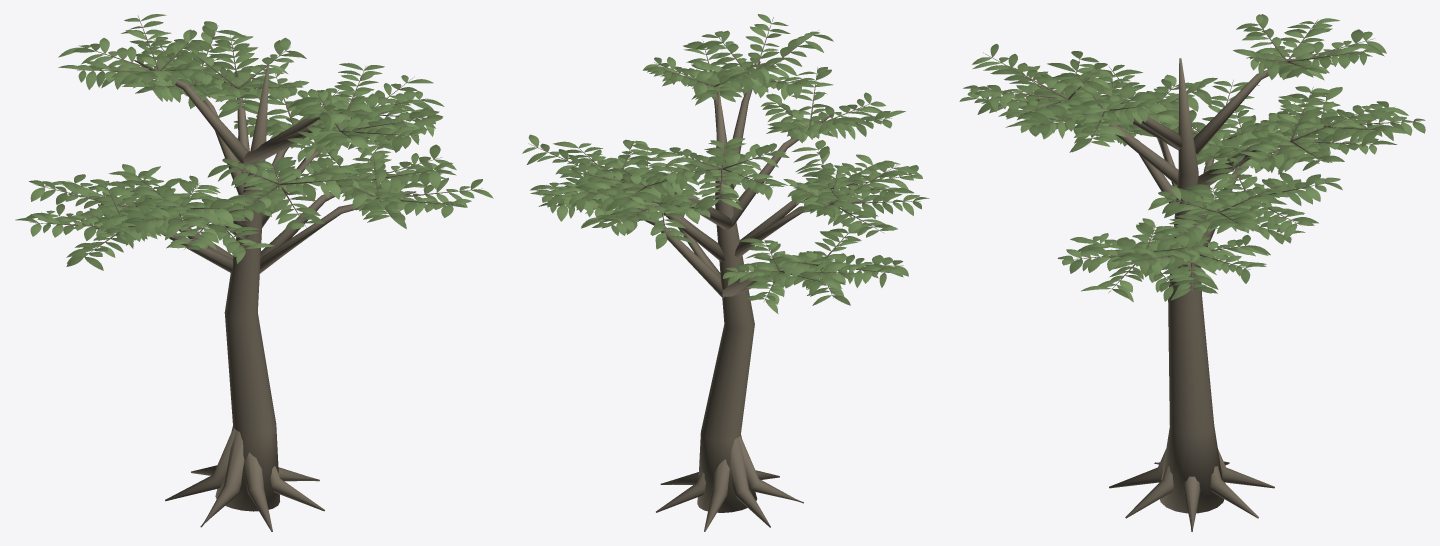
File: rainforest_canopy.glb
The picture shows the model from 3 angles, left to right: view 1: azimuth 30°, elevation 25°; view 2: azimuth 150°, elevation 25°; view 3: azimuth 270°, elevation 25°; orthographic projection. The views are drawn at different scales.
Visible parts, largest first — view 1: Foliage, Trunk; view 2: Foliage, Trunk; view 3: Foliage, Trunk.
Part boxes in pixels (x1=…): Foliage: x1=15, y1=14, x2=493, y2=270; Trunk: x1=30, y1=16, x2=482, y2=531; Foliage: x1=522, y1=14, x2=929, y2=313; Trunk: x1=528, y1=17, x2=920, y2=531; Foliage: x1=959, y1=14, x2=1425, y2=302; Trunk: x1=968, y1=20, x2=1424, y2=531.
Bounding box in the file's own units: 8.27 × 8.46 × 7.98.
